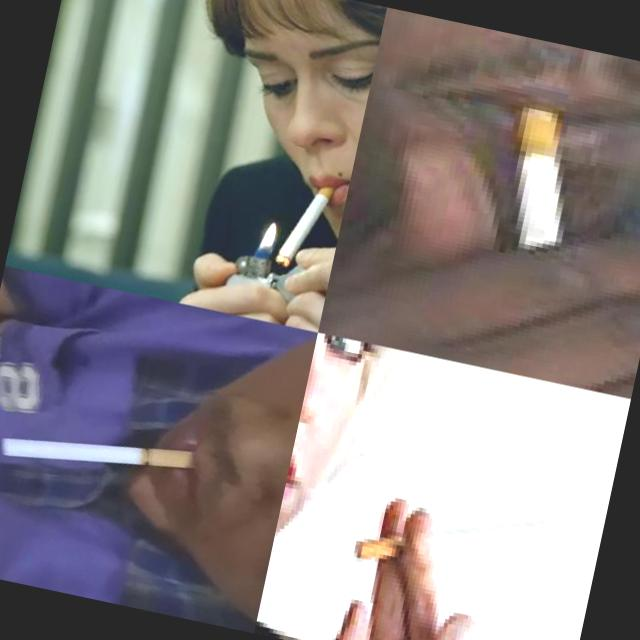smoke: (352, 483, 556, 598), (486, 82, 592, 258), (0, 413, 199, 494), (273, 172, 338, 274)
